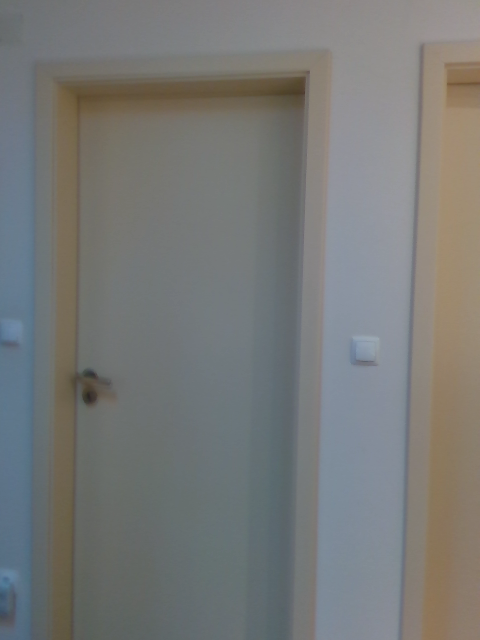closed: (29, 61, 332, 639)
